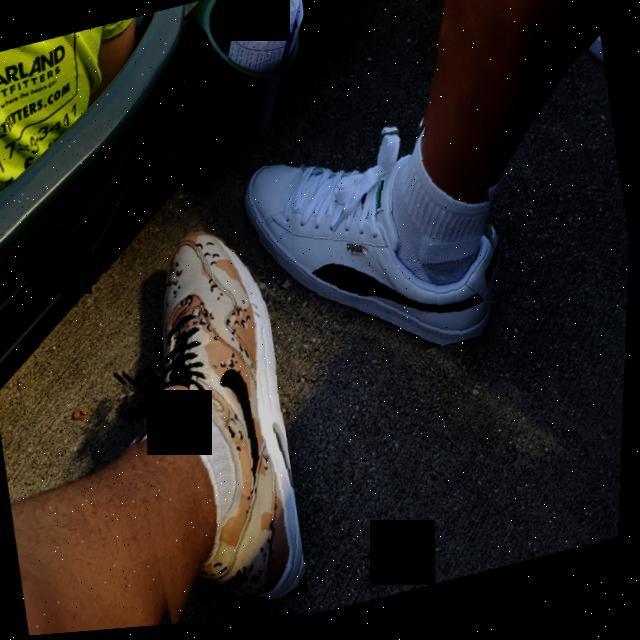shoe: (88, 210, 324, 633), (231, 106, 521, 397)
